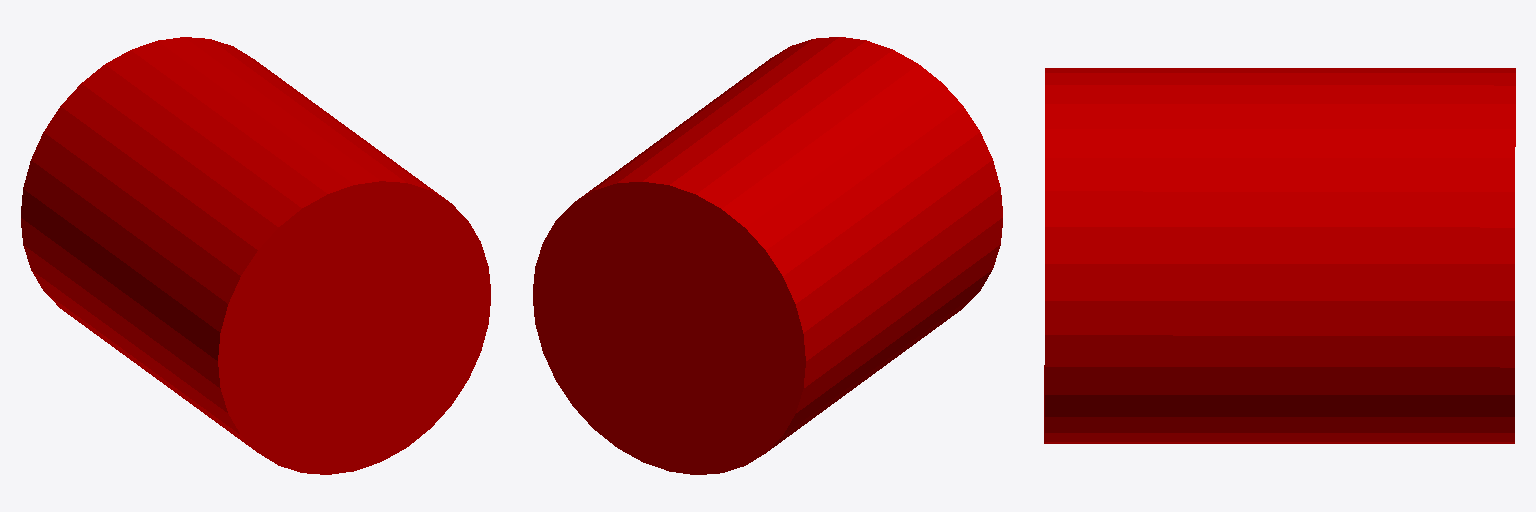
URDF robot description (targetball):
<?xml version="0.0" ?>
<robot name="targetball">
  <material name="red">
    <color rgba="0.8 0.0 0.0 1 "/>
  </material>
  <link name="boxLink">
      <inertial>
    <origin rpy="0 0 0" xyz="0 0 0"/>
     <mass value=".0"/>
     <inertia ixx="1" ixy="0" ixz="0" iyy="1" iyz="0" izz="1"/>
  </inertial>
  <visual>
    <origin rpy="1.57 0 0" xyz="0 0 0"/>
    <geometry>
      <cylinder radius="0.02" length="0.05"/>
    </geometry>
    <material name="red"/>
  </visual>
</link>

</robot>


<!--   <link name="boxLink">
        <inertial>
      <origin rpy="0 0 0" xyz="0 0 0"/>
       <mass value=".0"/>
       <inertia ixx="1" ixy="0" ixz="0" iyy="1" iyz="0" izz="1"/>
    </inertial>
    <visual>
      <origin rpy="0 0 0" xyz="0 0 0"/>
      <geometry>
        <sphere radius="0.02"/>
      </geometry>
      <material name="red"/>
    </visual>
  </link>

</robot> -->

--- Render facts (derived) ---
Views: 3 orthographic renders of the robot side by side, from view 1: azimuth 30°, elevation 25°; view 2: azimuth 150°, elevation 25°; view 3: azimuth 270°, elevation 25°.
Robot: targetball — 1 links, 0 joints (none); root link boxLink; default pose: all joints at 0.
Links seen in each view (by area): view 1: boxLink; view 2: boxLink; view 3: boxLink.
Boxes of the visible links, <box> form: boxLink: <box>21,37,490,474</box>; boxLink: <box>533,37,1002,474</box>; boxLink: <box>1044,68,1515,443</box>.
Bounding box of the posed robot: 0.04 × 0.05 × 0.04 m (x, y, z).
Geometry: primitives only (box / cylinder / sphere), no mesh files.